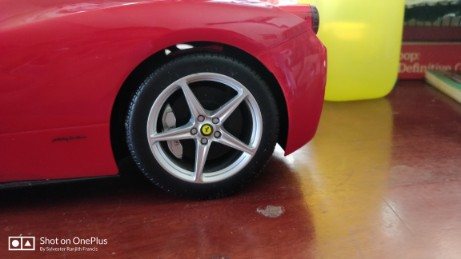aligned_wheel: (108, 46, 289, 203)
